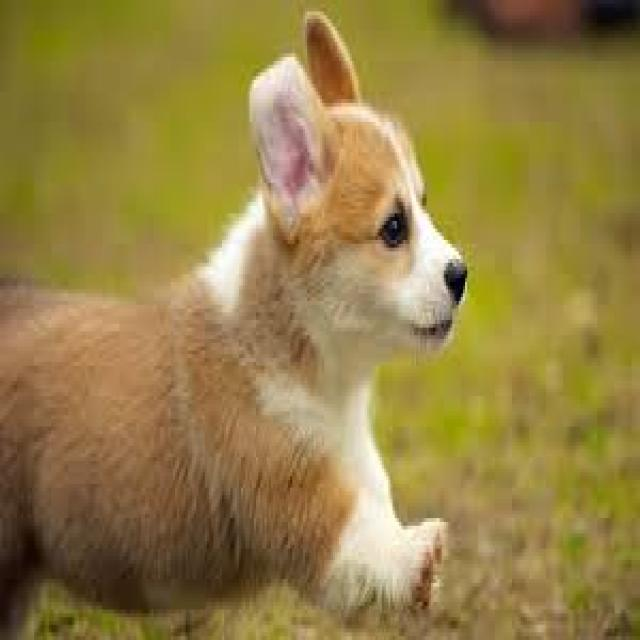CORGI: (0, 24, 489, 634)
